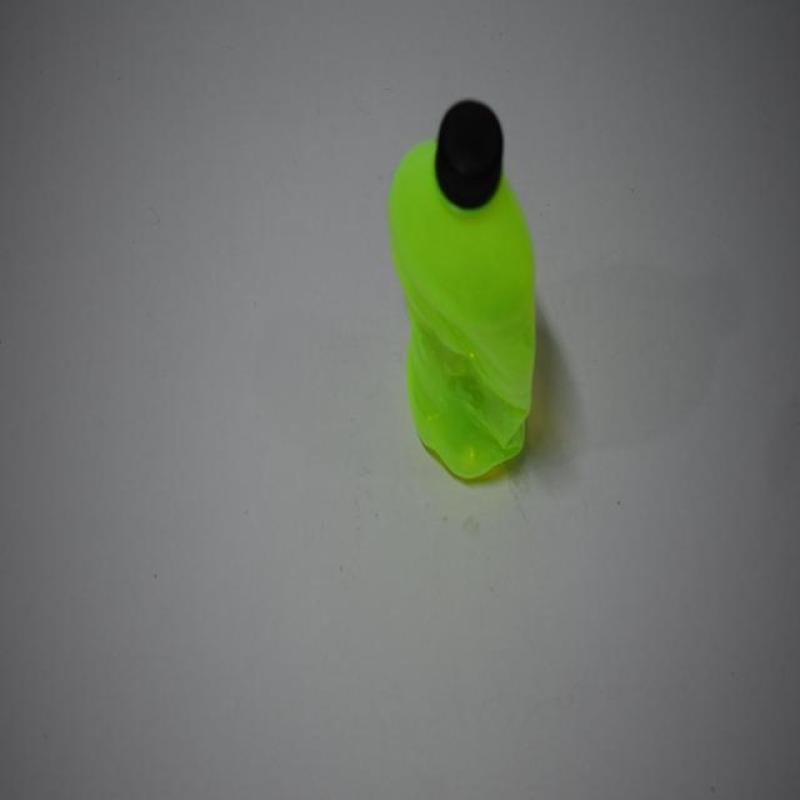botella: (380, 99, 542, 485)
